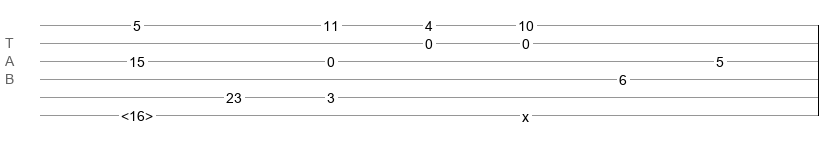0: (327, 54, 335, 64), (425, 36, 433, 46), (522, 36, 530, 46)
10: (518, 18, 534, 28)
11: (323, 18, 339, 28)
15: (129, 54, 145, 64)
23: (226, 90, 242, 100)
3: (327, 90, 335, 100)
4: (425, 18, 433, 28)
5: (133, 18, 141, 28), (716, 54, 724, 64)
6: (619, 72, 627, 82)
harmonic: (121, 108, 153, 118)
x: (522, 109, 529, 117)
